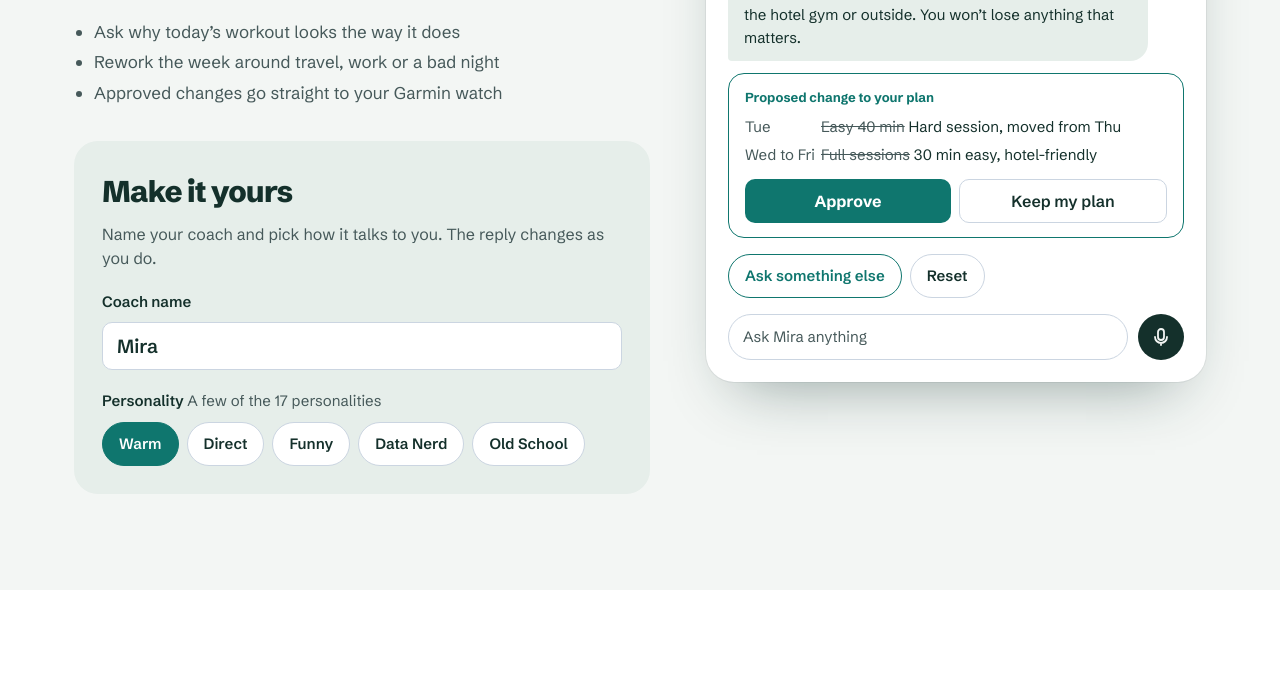
Test: persona › the header shows the name trimmed
(page scrolled)
Replace the text in the field with id "coach-name" with "  kip  ": (362, 346) 102,322 -> 622,370
(page scrolled)
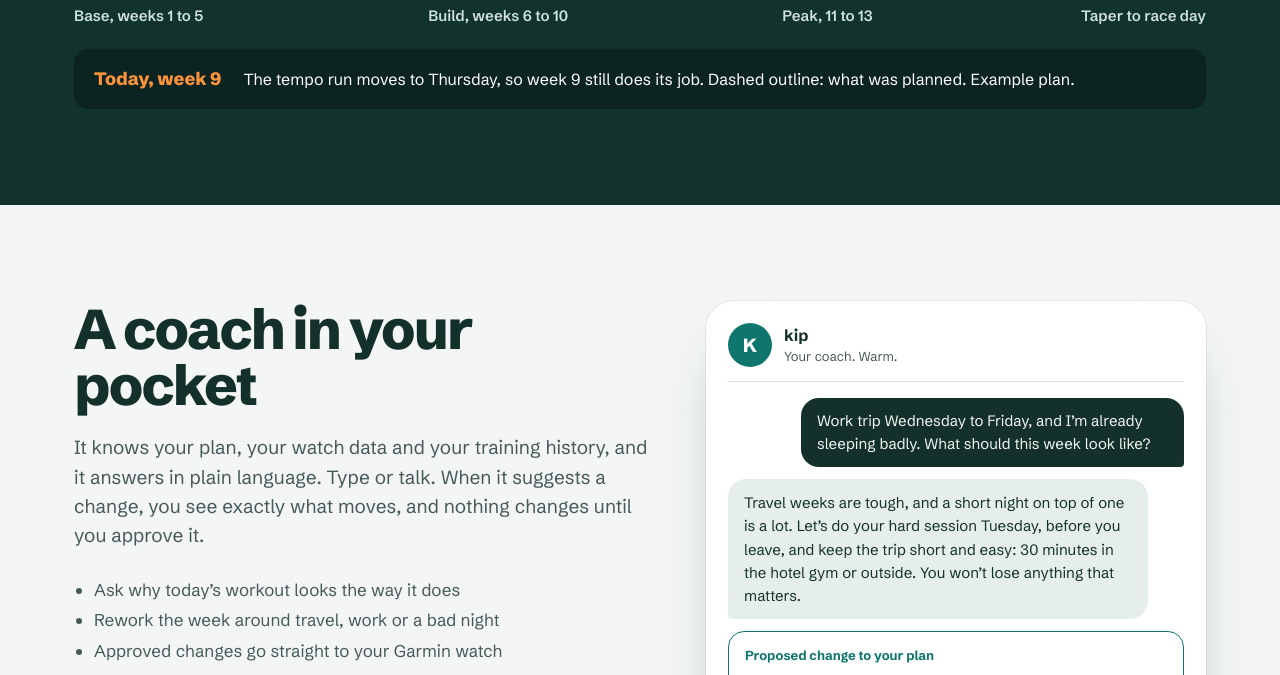
expect the text "kip" is shown: met, box 784,325 -> 808,345
expect the text "K" is shown: met, box 728,323 -> 772,367
